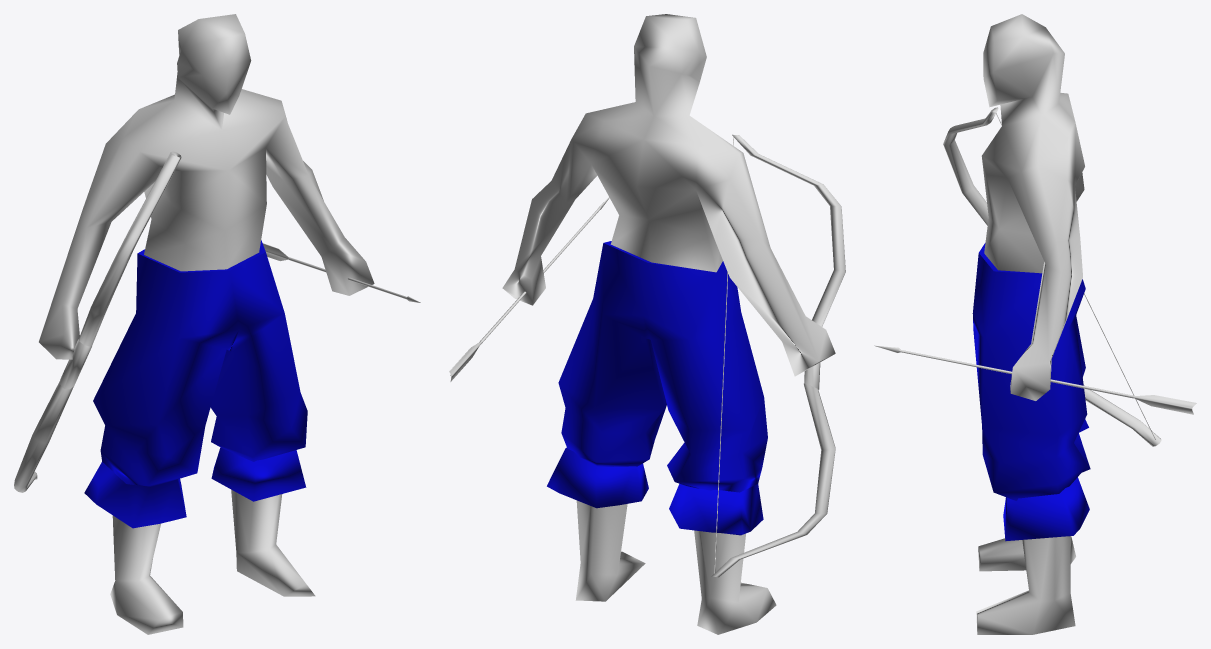
File: ArcherAllié.fbx
3 views of the same model, side by side, from view 1: azimuth 30°, elevation 25°; view 2: azimuth 150°, elevation 25°; view 3: azimuth 270°, elevation 25° (orthographic).
Visible parts, largest first — view 1: Cylinder.005; view 2: Cylinder.005; view 3: Cylinder.005.
Boxes of the visible parts, bbox=[...] form: Cylinder.005: bbox=[14, 14, 420, 634]; Cylinder.005: bbox=[449, 14, 845, 634]; Cylinder.005: bbox=[874, 14, 1196, 634].
Bounding box in the file's own units: 112 × 188 × 95.67.
